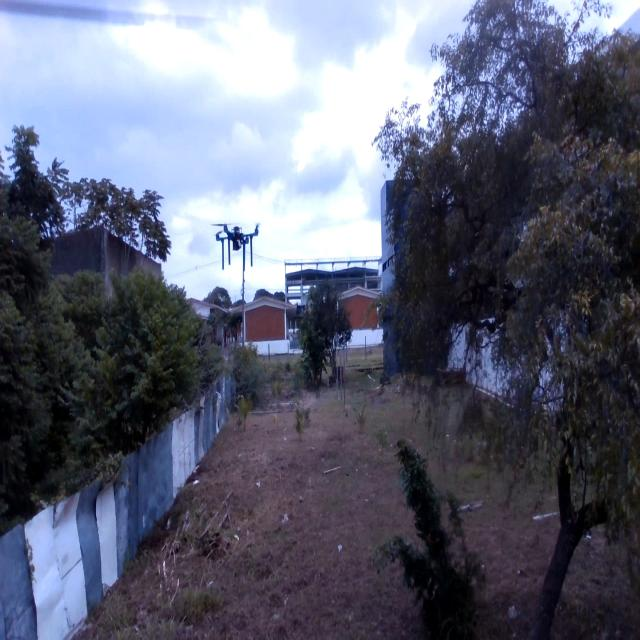-uav-: (206, 206, 266, 268)
